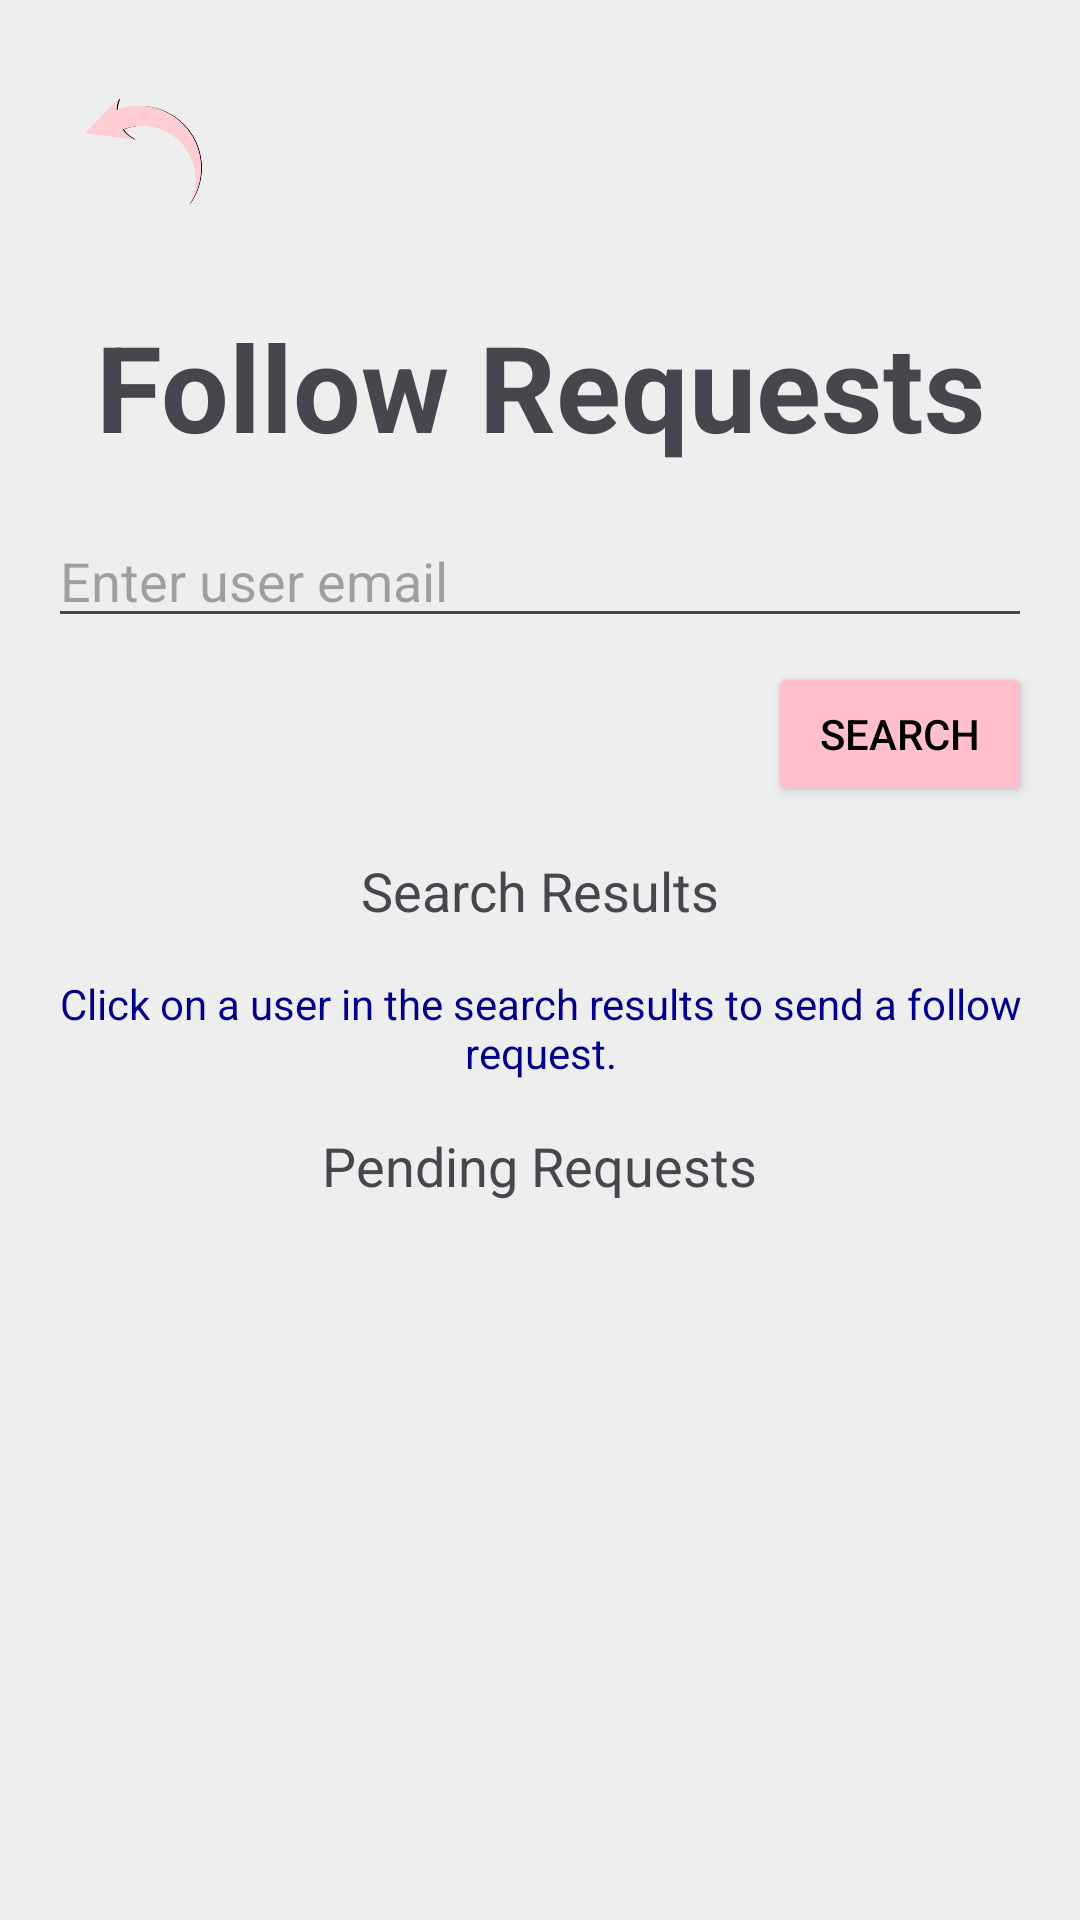

Icons on this 1080*1920 Android screen, each with its box as [x1=x1, y1=y1, x2=x2, y2=y2]:
Back Button: [x1=86, y1=98, x2=202, y2=205]
